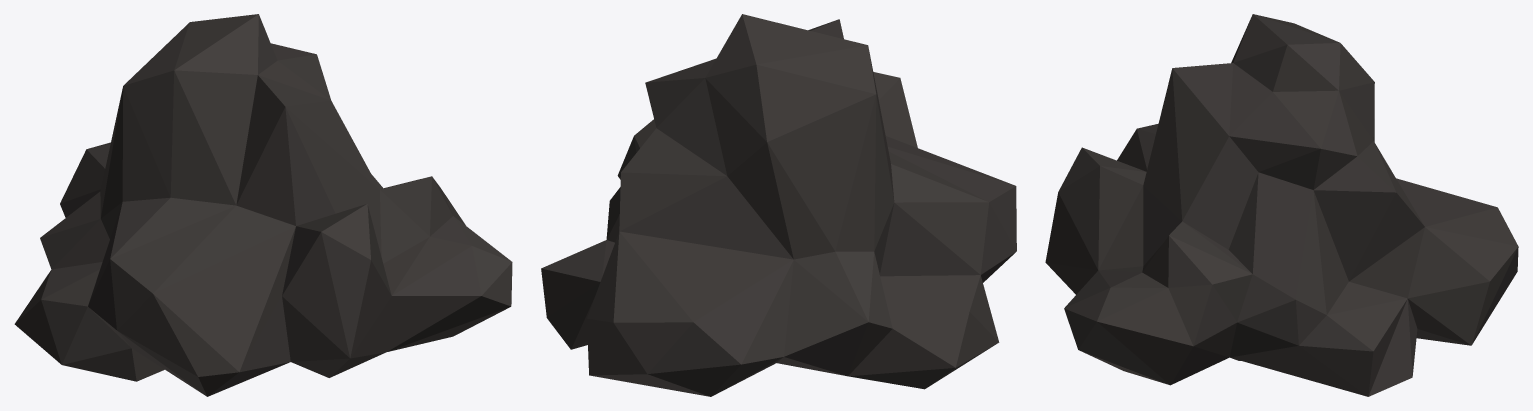
Rendered from Rock_7_LOD_1.fbx.
3 renders of one model, left to right at view 1: azimuth 30°, elevation 25°; view 2: azimuth 150°, elevation 25°; view 3: azimuth 270°, elevation 25°, orthographic. The views are drawn at different scales.
Visible parts, largest first — view 1: Group36992; view 2: Group36992; view 3: Group36992.
Boxes of the visible parts, x1,y1,x2,y2 form: Group36992: (14,14,512,396); Group36992: (541,14,1016,396); Group36992: (1045,14,1518,396).
Size of the model in its own units: 3.43 by 2.53 by 3.72.
